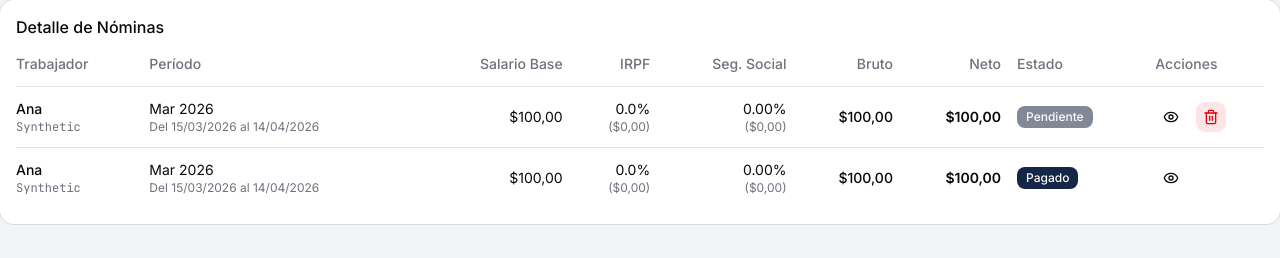
it: server-side paid rejection is visible without pretending the row was removed
Step 1. Click the button named "Eliminar nómina pendiente de Ana" → (1211, 117), box x1=1195 y1=101 x2=1227 y2=133
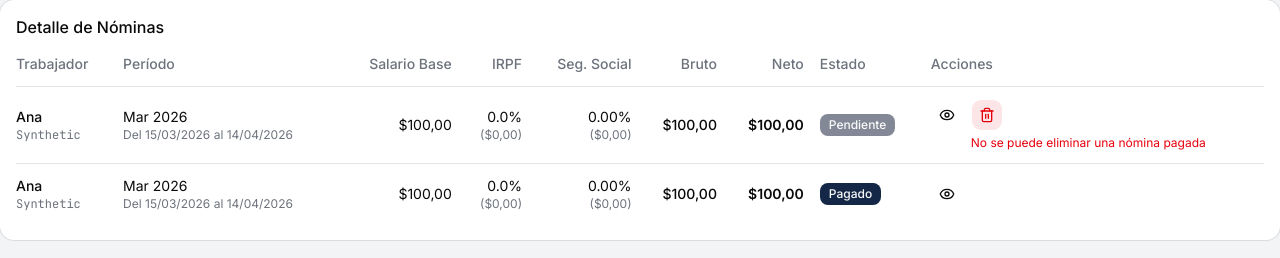
Now the message reads "No se puede eliminar una nómina pagada", box x1=971 y1=135 x2=1206 y2=150
